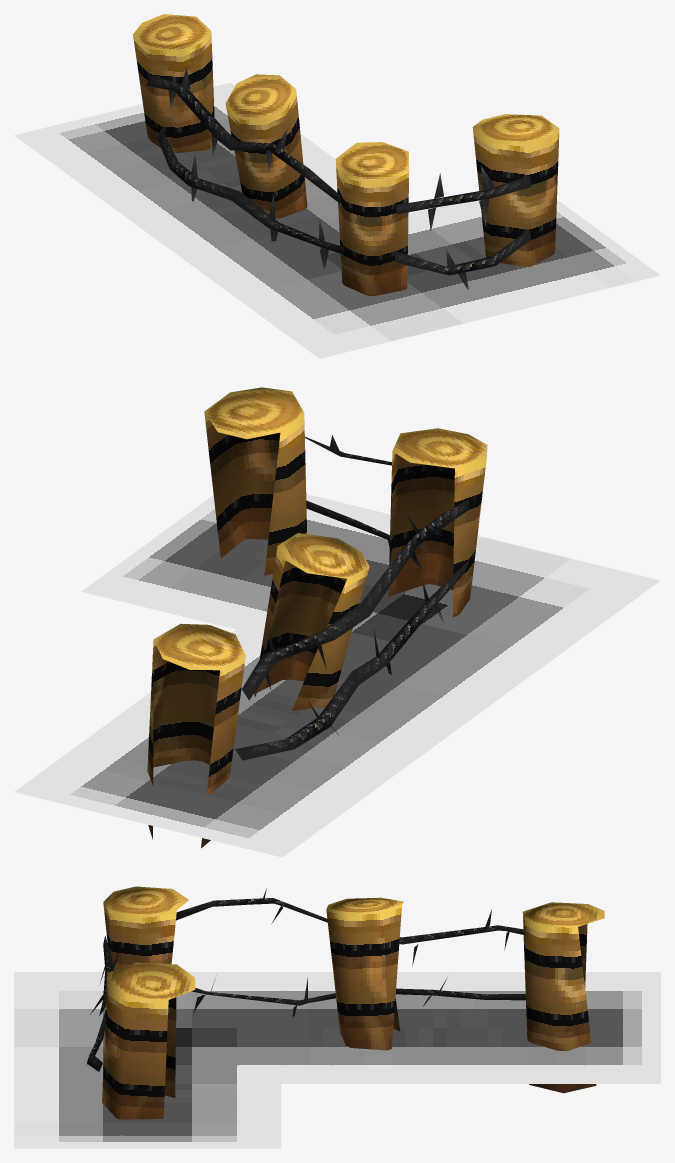
The model's file is int_fence_15.dae.
3 renders of one model, top to bottom at view 1: azimuth 30°, elevation 25°; view 2: azimuth 150°, elevation 25°; view 3: azimuth 270°, elevation 25°, orthographic. The views are drawn at different scales.
Visible parts, largest first — view 1: int_fence_15; view 2: int_fence_15; view 3: int_fence_15.
Boxes of the visible parts, x1=… form: int_fence_15: x1=14, y1=14, x2=660, y2=358; int_fence_15: x1=14, y1=387, x2=660, y2=857; int_fence_15: x1=14, y1=886, x2=660, y2=1148.
Size of the model in its own units: 43.91 by 21.08 by 68.
Materials: 2 (2 with a texture image).
